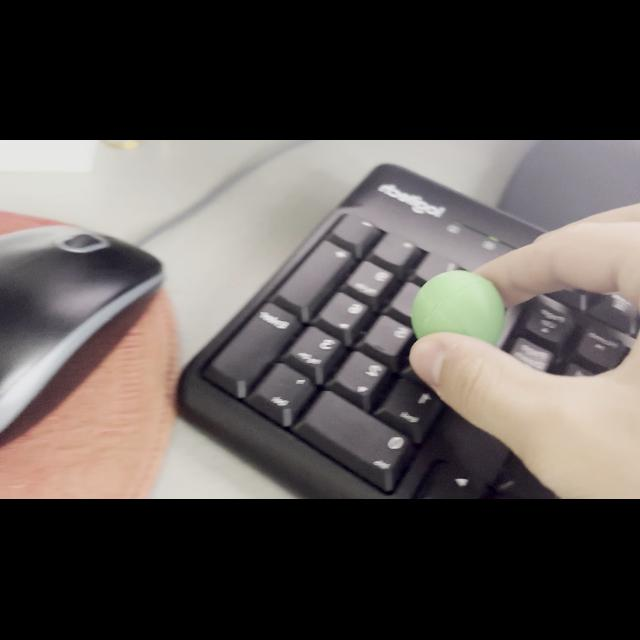objects: (409, 268, 507, 340)
